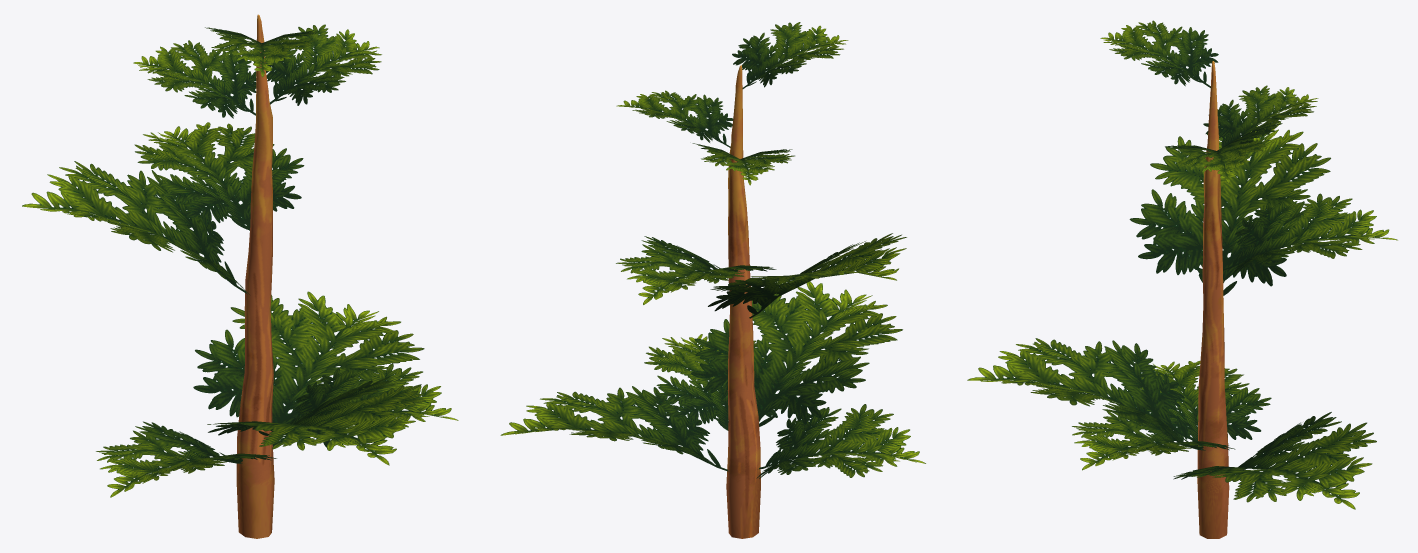
File: pine_sapling.glb
The picture shows the model from 3 angles, left to right: view 1: azimuth 30°, elevation 25°; view 2: azimuth 150°, elevation 25°; view 3: azimuth 270°, elevation 25°; orthographic projection. The views are drawn at different scales.
Visible parts, largest first — view 1: sapling_stylized_pine_m_leaves_0, sapling_stylized_pine_m_trunk_0; view 2: sapling_stylized_pine_m_leaves_0, sapling_stylized_pine_m_trunk_0; view 3: sapling_stylized_pine_m_leaves_0, sapling_stylized_pine_m_trunk_0.
Part boxes in pixels (left/top/right/bottom): sapling_stylized_pine_m_leaves_0: left=22, top=24, right=458, bottom=497; sapling_stylized_pine_m_trunk_0: left=236, top=14, right=274, bottom=538; sapling_stylized_pine_m_leaves_0: left=500, top=22, right=925, bottom=478; sapling_stylized_pine_m_trunk_0: left=726, top=65, right=760, bottom=538; sapling_stylized_pine_m_leaves_0: left=967, top=20, right=1397, bottom=509; sapling_stylized_pine_m_trunk_0: left=1197, top=61, right=1229, bottom=538.
Bounding box in the file's own units: 1.2 × 1.46 × 1.21.
2 materials, 2 textured.
